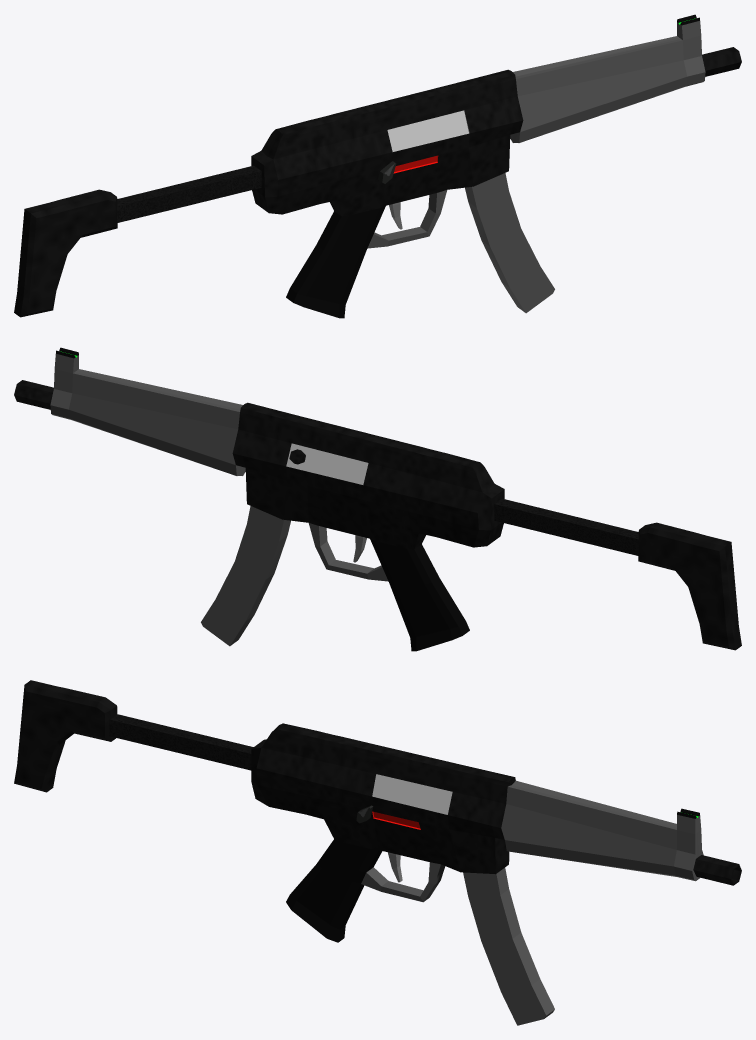
3 views of the same model, one above another, from view 1: azimuth 30°, elevation 25°; view 2: azimuth 150°, elevation 25°; view 3: azimuth 330°, elevation 25° (orthographic).
Visible parts, largest first — view 1: Основание, Магазин, Затвор, Дуло; view 2: Основание, Магазин, Затвор, Дуло; view 3: Основание, Магазин, Затвор, Дуло.
Part boxes in pixels (box(x1,y1,x2,y2)): Основание: box(14, 14, 705, 318); Магазин: box(465, 173, 554, 313); Затвор: box(387, 110, 468, 151); Дуло: box(702, 47, 741, 76); Основание: box(50, 347, 741, 651); Магазин: box(201, 506, 290, 646); Затвор: box(287, 443, 368, 484); Дуло: box(14, 380, 53, 409); Основание: box(14, 680, 703, 942); Магазин: box(463, 867, 554, 1025); Затвор: box(372, 774, 452, 814); Дуло: box(693, 855, 741, 885).
Bounding box in the file's own units: 667 × 223 × 46.21.
